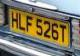2: (43, 19, 51, 39)
5: (36, 18, 43, 36)
6: (51, 22, 59, 41)
F: (26, 14, 33, 33)
H: (11, 11, 19, 29)
L: (18, 13, 25, 31)
T: (59, 23, 66, 44)
